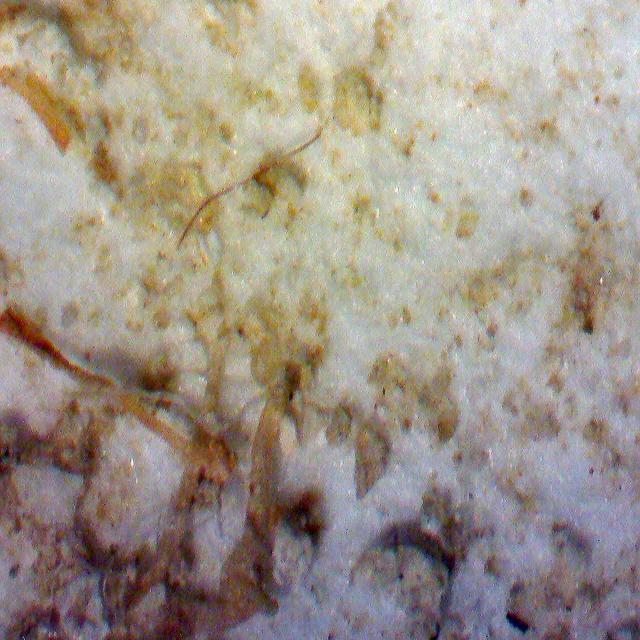microplastic: (178, 125, 327, 251)
